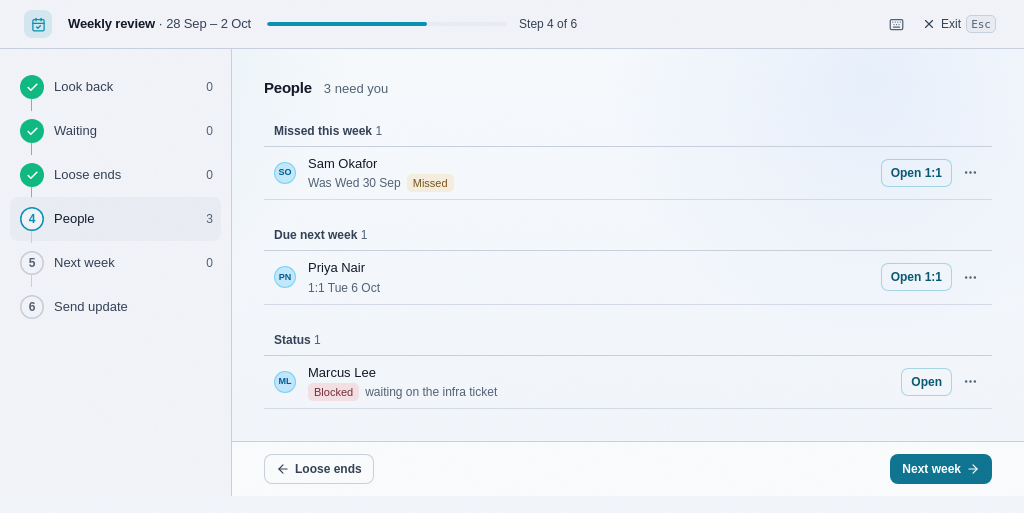
it: People step (docs/59 §5.3 step 4) › skips a scheduled session from the menu with the existing session PATCH
The image size is (1024, 513).
Expected: the heading "People" is shown, [264,77,312,100]
Click the button named "More actions" at (970, 173), box [956,159,984,187]
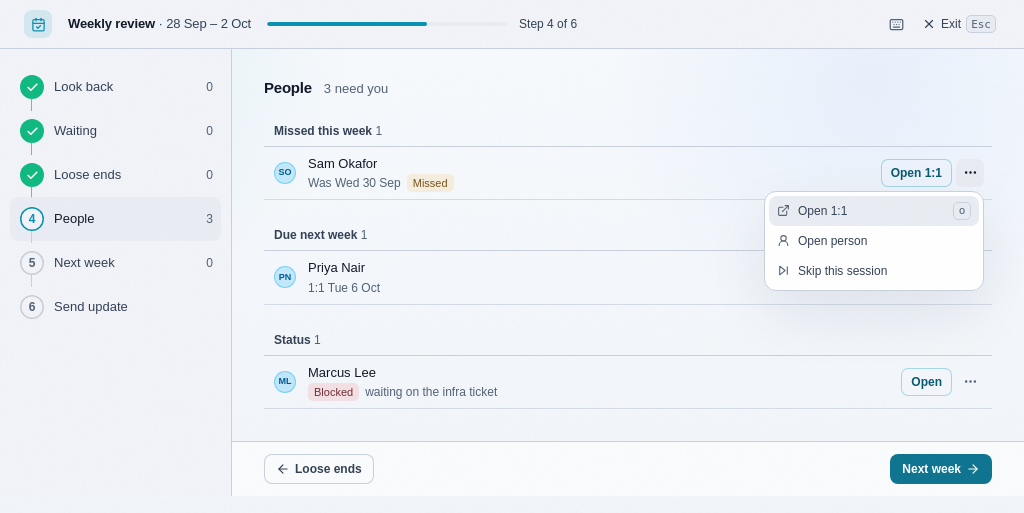
Click the menu item "Skip this session" at (874, 271), box [769,256,979,286]
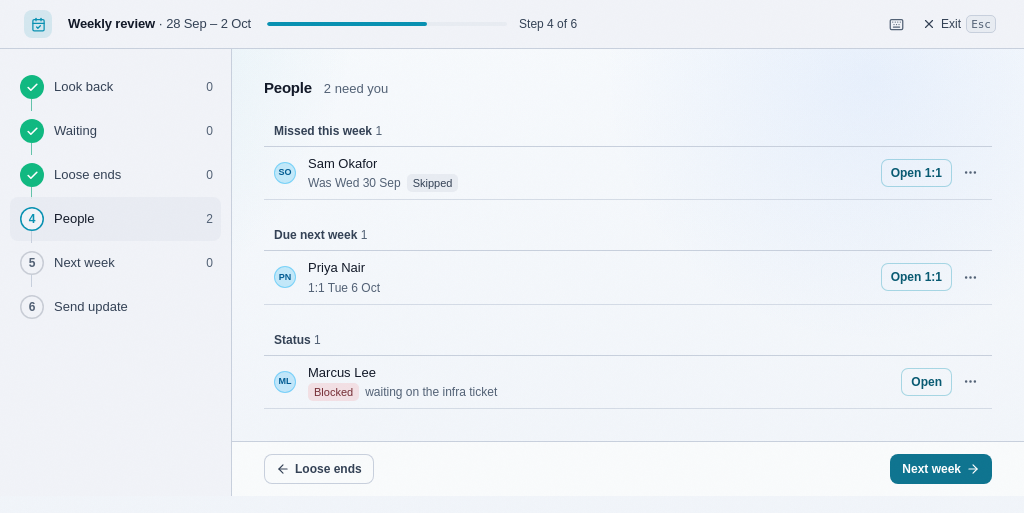
Result: the text "Skipped" is shown at [407,174,458,192]
Result: the text "2 need you" is shown at [324,79,388,98]
